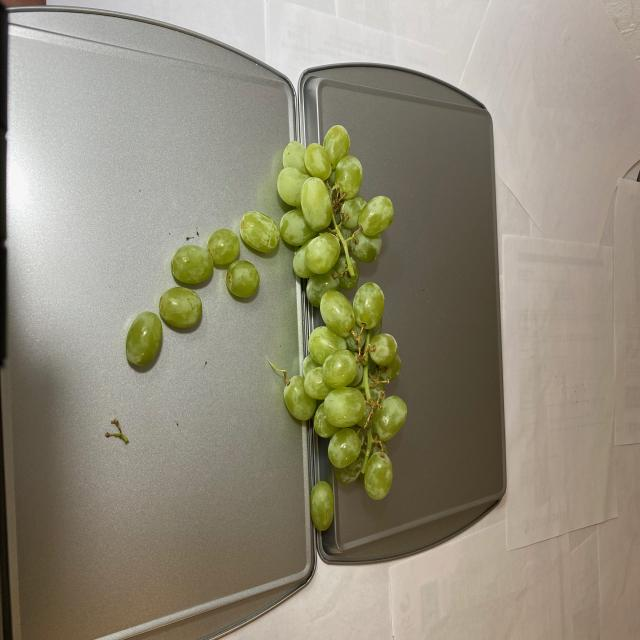grapes: (127, 124, 410, 535)
